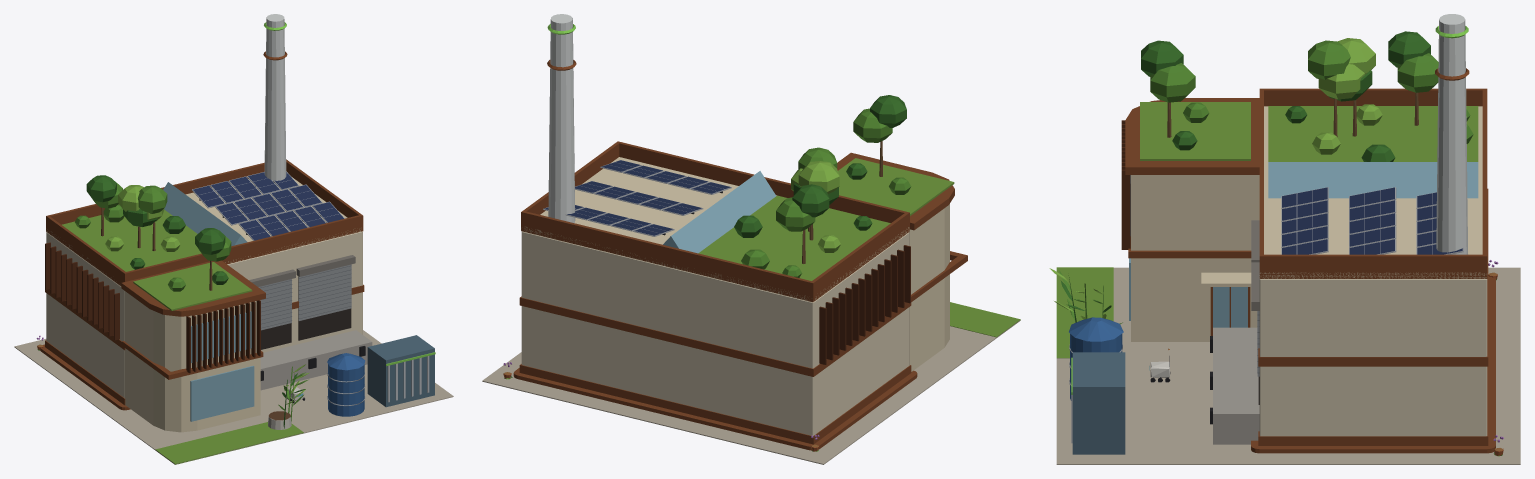
File: factory_3.glb
3 views of the same model, side by side, from view 1: azimuth 30°, elevation 25°; view 2: azimuth 150°, elevation 25°; view 3: azimuth 270°, elevation 25° (orthographic). The views are drawn at different scales.
Visible parts, largest first — view 1: body, windows; view 2: body; view 3: body.
Part boxes in pixels (x1=…): body: x1=14, y1=14, x2=453, y2=464; windows: x1=261, y1=22, x2=435, y2=396; body: x1=482, y1=14, x2=1020, y2=464; body: x1=1049, y1=14, x2=1520, y2=464.
Bounding box in the file's own units: 15.9 × 15.97 × 16.16.
